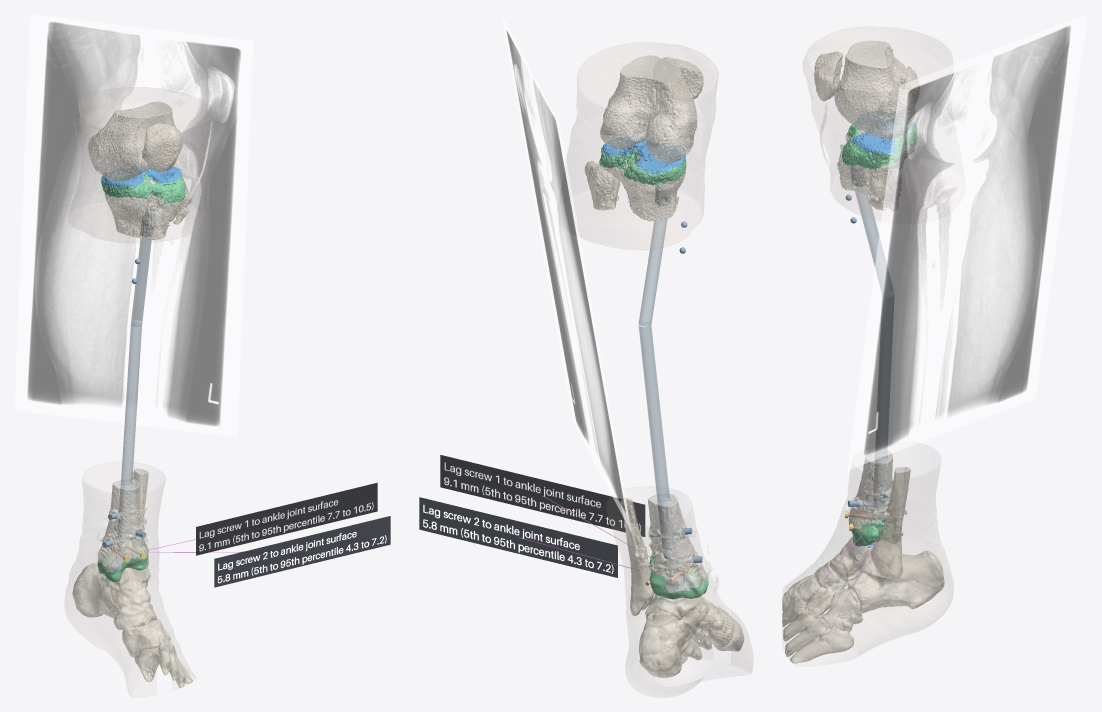
File: 2023-02-14_081653_lat.glb
3 views of the same model, side by side, from view 1: azimuth 30°, elevation 25°; view 2: azimuth 150°, elevation 25°; view 3: azimuth 270°, elevation 25° (orthographic). The views are drawn at different scales.
Parts seen in each view (by area): view 1: radiograph, skin, tibia, implant_8, implant_16, tarsal, femur, nail_modelled, patella, metatarsal, capsule_band_knee, articular_surface_knee (+3 smaller); view 2: skin, radiograph, femur, implant_17, implant_9, tibia, tarsal, nail_modelled, fibula, articular_surface_knee, capsule_band_knee, nail (+3 smaller); view 3: radiograph, skin, tarsal, femur, fibula, tibia, nail_modelled, metatarsal, capsule_band_knee, articular_surface_knee, patella, nail (+1 smaller).
Boxes of the visible parts, left/top/right/bottom form: radiograph: left=14, top=14, right=253, bottom=437; skin: left=65, top=87, right=212, bottom=696; tibia: left=98, top=171, right=183, bottom=572; implant_8: left=196, top=482, right=377, bottom=555; implant_16: left=214, top=516, right=390, bottom=587; tarsal: left=72, top=560, right=170, bottom=657; femur: left=88, top=101, right=177, bottom=181; nail_modelled: left=121, top=238, right=151, bottom=485; patella: left=142, top=122, right=183, bottom=171; metatarsal: left=134, top=638, right=192, bottom=687; capsule_band_knee: left=101, top=172, right=185, bottom=203; articular_surface_knee: left=102, top=164, right=181, bottom=187; skin: left=566, top=42, right=752, bottom=697; radiograph: left=502, top=16, right=631, bottom=531; femur: left=600, top=55, right=697, bottom=162; implant_17: left=419, top=497, right=617, bottom=577; implant_9: left=440, top=455, right=645, bottom=536; tibia: left=599, top=149, right=708, bottom=598; tarsal: left=639, top=577, right=733, bottom=677; nail_modelled: left=638, top=219, right=669, bottom=502; fibula: left=584, top=161, right=654, bottom=615; articular_surface_knee: left=601, top=135, right=685, bottom=174; capsule_band_knee: left=599, top=142, right=686, bottom=185; nail: left=655, top=181, right=678, bottom=577; radiograph: left=847, top=14, right=1087, bottom=469; skin: left=783, top=27, right=953, bottom=655; tarsal: left=787, top=536, right=944, bottom=631; femur: left=834, top=40, right=919, bottom=139; fibula: left=869, top=168, right=910, bottom=578; tibia: left=837, top=129, right=915, bottom=546; nail_modelled: left=855, top=191, right=894, bottom=459; metatarsal: left=782, top=590, right=853, bottom=663; capsule_band_knee: left=842, top=120, right=917, bottom=169; articular_surface_knee: left=852, top=113, right=914, bottom=154; patella: left=813, top=51, right=842, bottom=101; nail: left=851, top=165, right=887, bottom=522.
Bounding box in the file's own units: 0.2868 × 0.5621 × 0.2445.
Materials: 15 (3 with a texture image).
